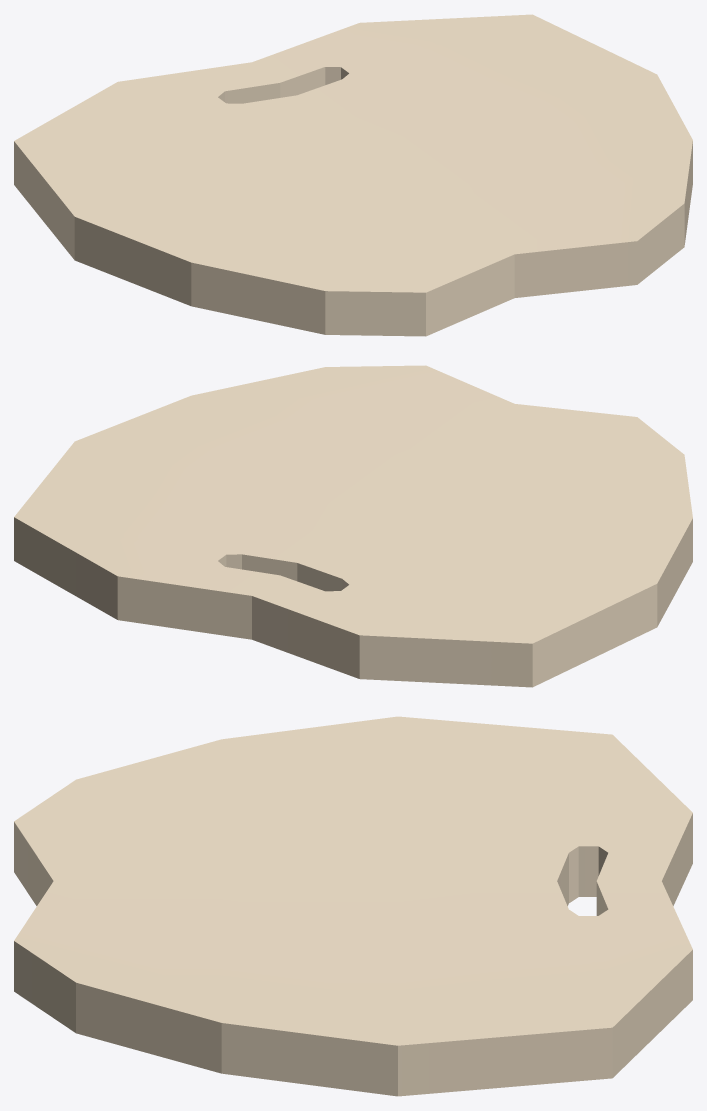
The model's file is Chao.fbx.
3 views of the same model, one above another, from view 1: azimuth 30°, elevation 25°; view 2: azimuth 150°, elevation 25°; view 3: azimuth 270°, elevation 25° (orthographic). The views are drawn at different scales.
Parts seen in each view (by area): view 1: Cai thot; view 2: Cai thot; view 3: Cai thot.
Boxes of the visible parts, x1,y1,x2,y2 form: Cai thot: (14, 14, 692, 336); Cai thot: (14, 365, 692, 687); Cai thot: (14, 716, 692, 1096).
Size of the model in its own units: 79.4 by 5.71 by 69.2.
